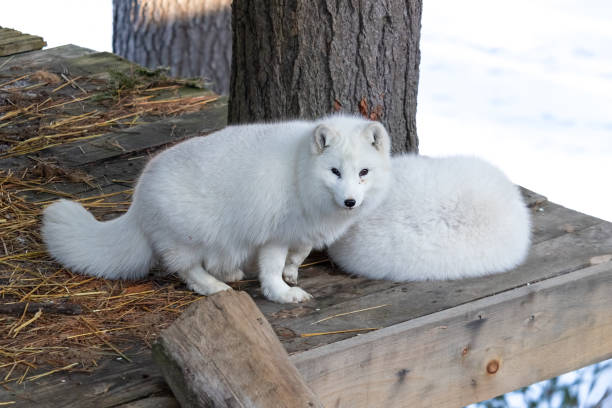arcticfox: (308, 125, 383, 220)
